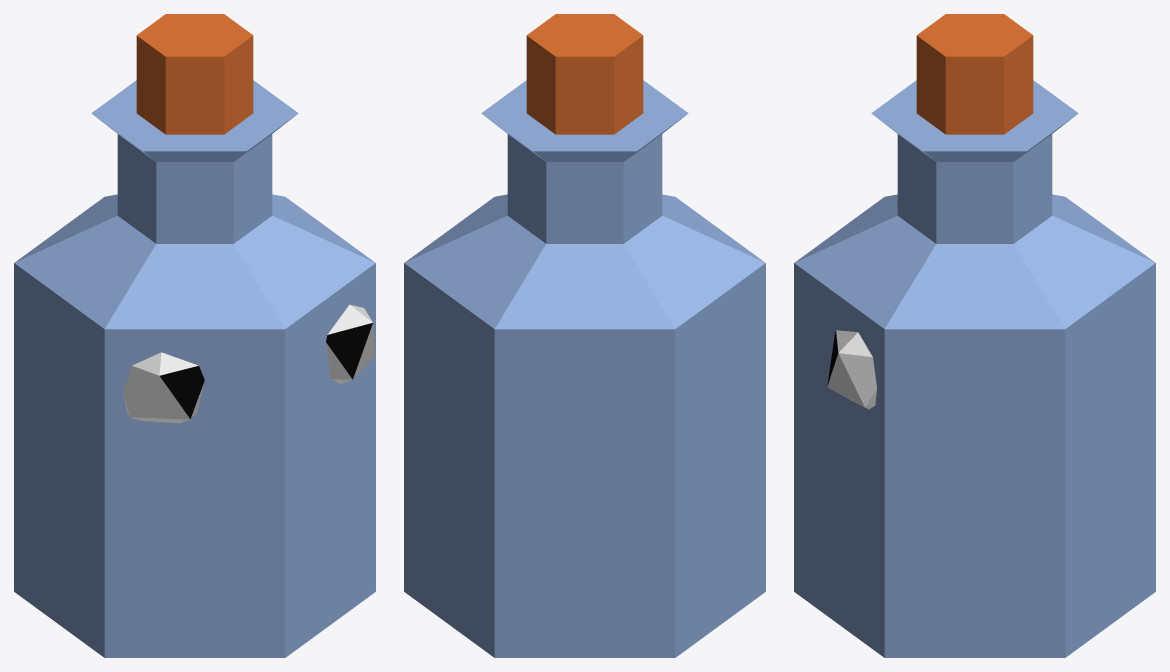
Rendered from FrogModel.dae.
3 renders of one model, left to right at view 1: azimuth 30°, elevation 25°; view 2: azimuth 150°, elevation 25°; view 3: azimuth 270°, elevation 25°, orthographic.
Visible parts, largest first — view 1: bottle, eye, eye.001; view 2: bottle; view 3: bottle, eye.001.
Boxes of the visible parts, x1,y1,x2,y2 form: bottle: (14,14,375,657); eye: (123,352,204,423); eye.001: (326,304,374,384); bottle: (404,14,765,657); bottle: (794,14,1155,657); eye.001: (827,330,877,409).
Size of the model in its own units: 1.5 by 1.73 by 2.93.
